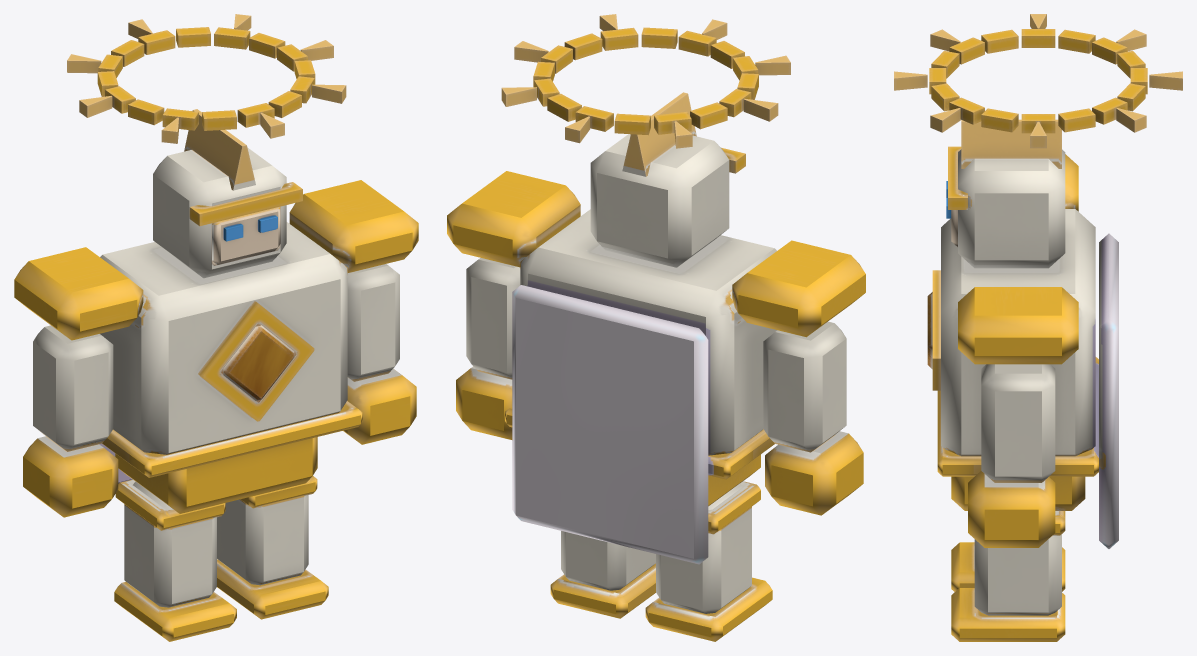
File: TitanAureole_Rig.fbx
The picture shows the model from 3 angles, left to right: view 1: azimuth 30°, elevation 25°; view 2: azimuth 150°, elevation 25°; view 3: azimuth 270°, elevation 25°; orthographic projection. The views are drawn at different scales.
Visible parts, largest first — view 1: Body, ArmR, ArmL, Head, LegR, Halo, LegL; view 2: Body, ArmR, ArmL, Head, Halo, LegR, LegL; view 3: Body, ArmL, Head, Halo, LegL, LegR, ArmR.
Boxes of the visible parts, x1,y1,x2,y2 form: Body: [99, 222, 362, 513]; ArmR: [14, 247, 143, 517]; ArmL: [289, 180, 418, 444]; Head: [153, 109, 302, 278]; LegR: [114, 479, 236, 641]; Halo: [67, 14, 346, 143]; LegL: [217, 476, 328, 619]; Body: [505, 209, 777, 564]; ArmR: [732, 240, 865, 515]; ArmL: [447, 171, 580, 439]; Head: [590, 92, 745, 267]; Halo: [501, 14, 790, 148]; LegR: [645, 481, 772, 641]; LegL: [550, 531, 655, 618]; Body: [927, 209, 1118, 548]; ArmL: [958, 287, 1078, 547]; Head: [946, 119, 1065, 268]; Halo: [894, 14, 1182, 148]; LegL: [951, 511, 1065, 641]; LegR: [951, 542, 1065, 591]; ArmR: [1065, 154, 1078, 211].
Bounding box in the file's own units: 4.41 × 6 × 2.97.
Materials: 1 (1 with a texture image).
